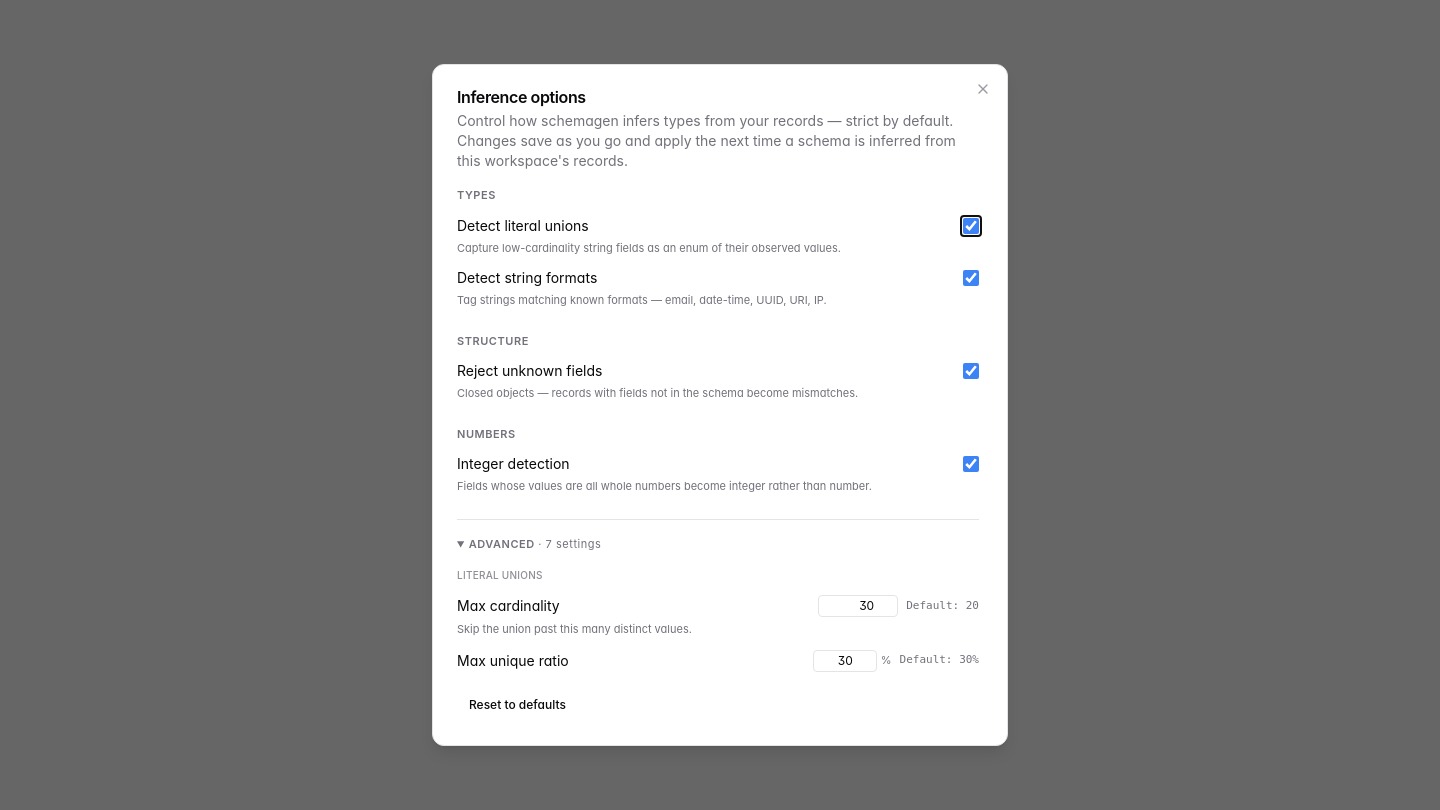
Scenario: InferenceOptionsDialog › Z-D4: Reset to defaults clears stored options and form reverts
This screenshot has width=1440, height=810.
Step 1. Click the button "Reset to defaults" → (517, 705), box [457, 689, 578, 721]
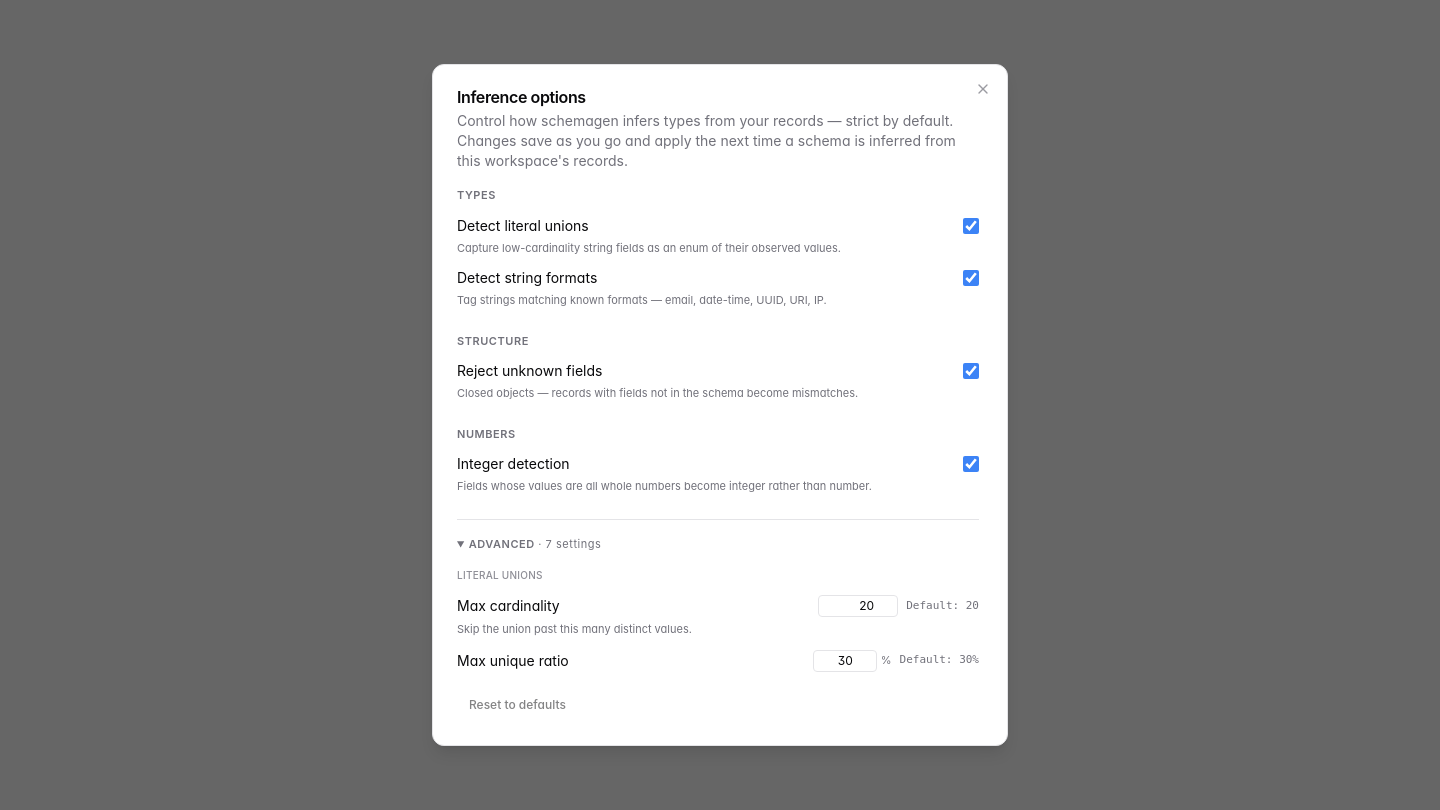
Result: the number field labelled "Max cardinality" holds "20" at [818, 595, 898, 617]
